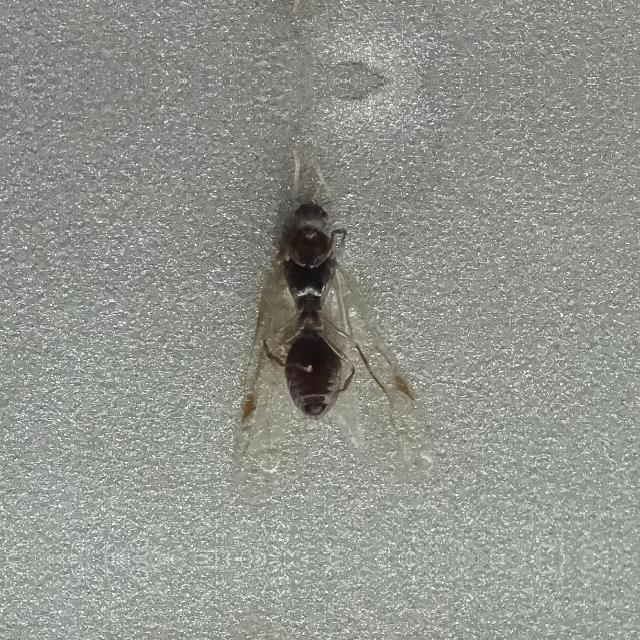Tetramorium: (233, 182, 384, 432)
